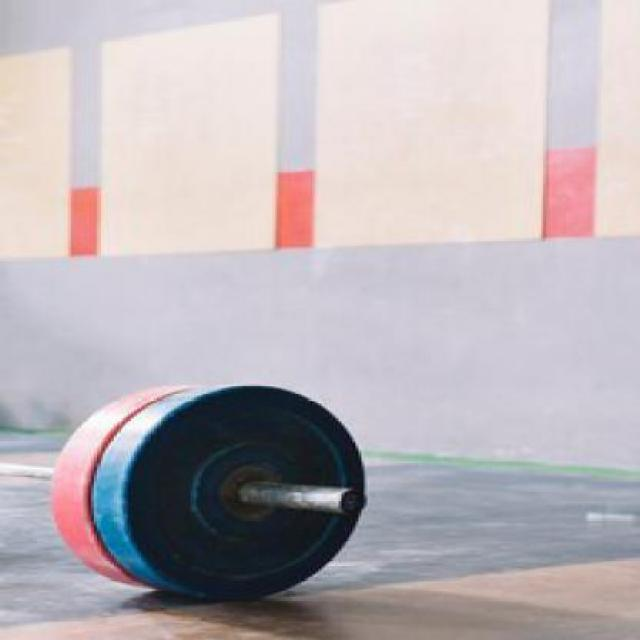Barbell: (330, 473, 372, 530)
